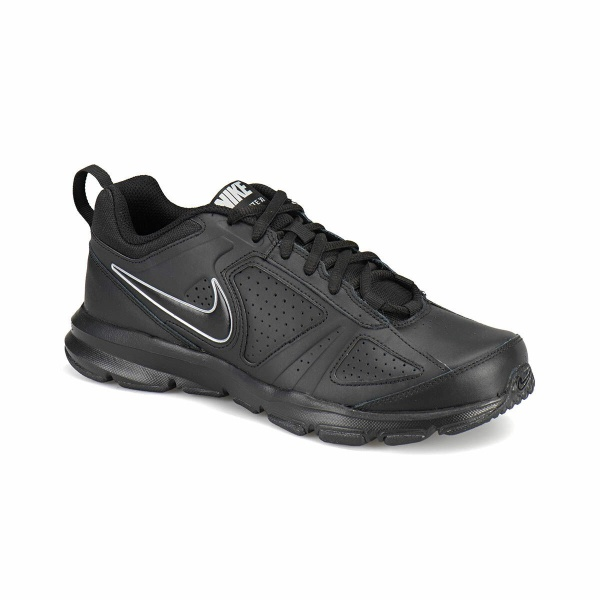nike: (108, 263, 241, 350)
